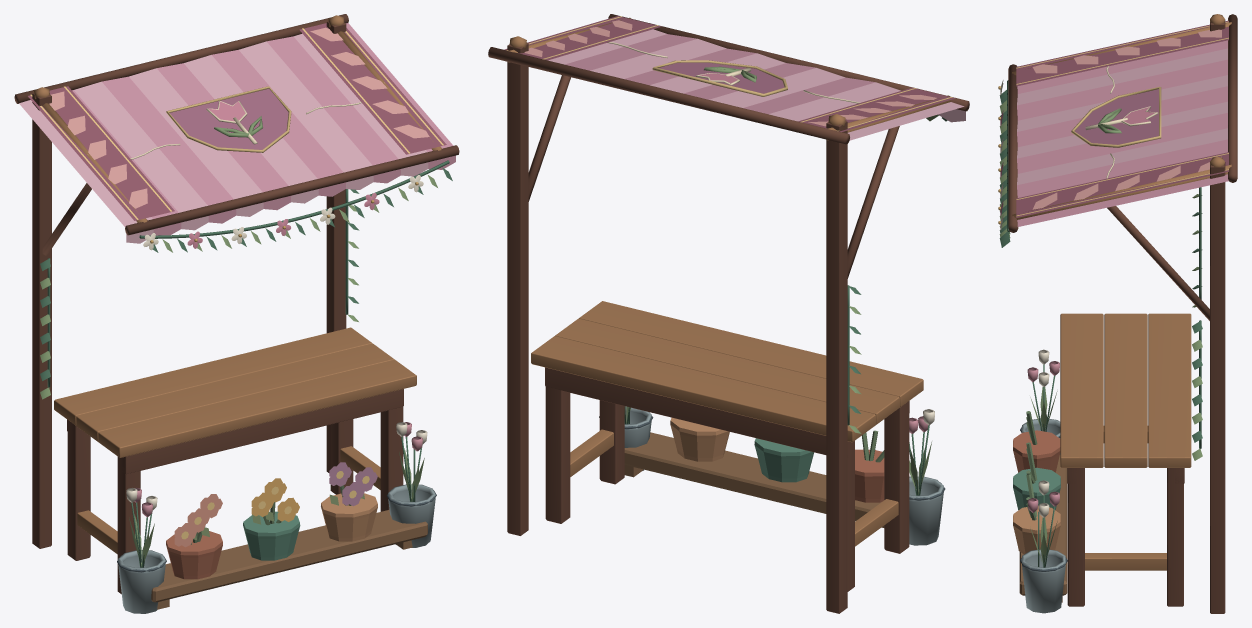
The model's file is stall_florist.glb.
The picture shows the model from 3 angles, left to right: view 1: azimuth 30°, elevation 25°; view 2: azimuth 150°, elevation 25°; view 3: azimuth 270°, elevation 25°; orthographic projection. The views are drawn at different scales.
Visible parts, largest first — view 1: stall_florist; view 2: stall_florist; view 3: stall_florist.
Part boxes in pixels (left/top/right/bottom): stall_florist: left=14, top=14, right=459, bottom=613; stall_florist: left=488, top=14, right=969, bottom=613; stall_florist: left=998, top=14, right=1237, bottom=613.
Size of the model in its own units: 1.88 by 2.5 by 1.19.
